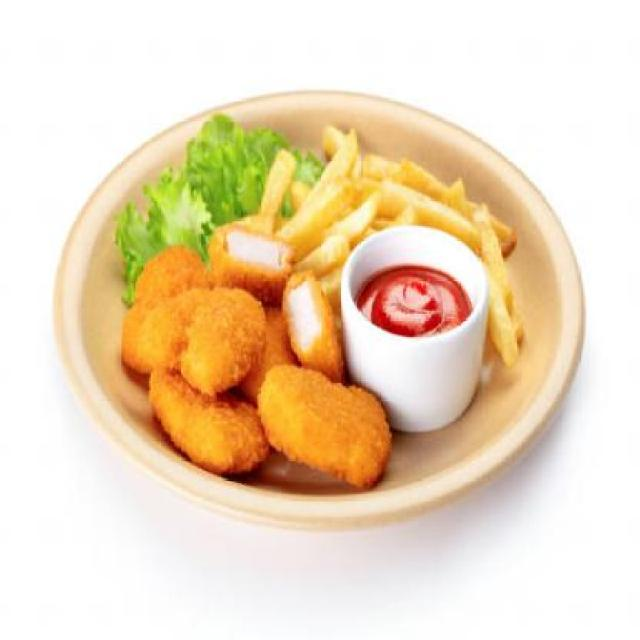fries: (236, 118, 526, 373)
